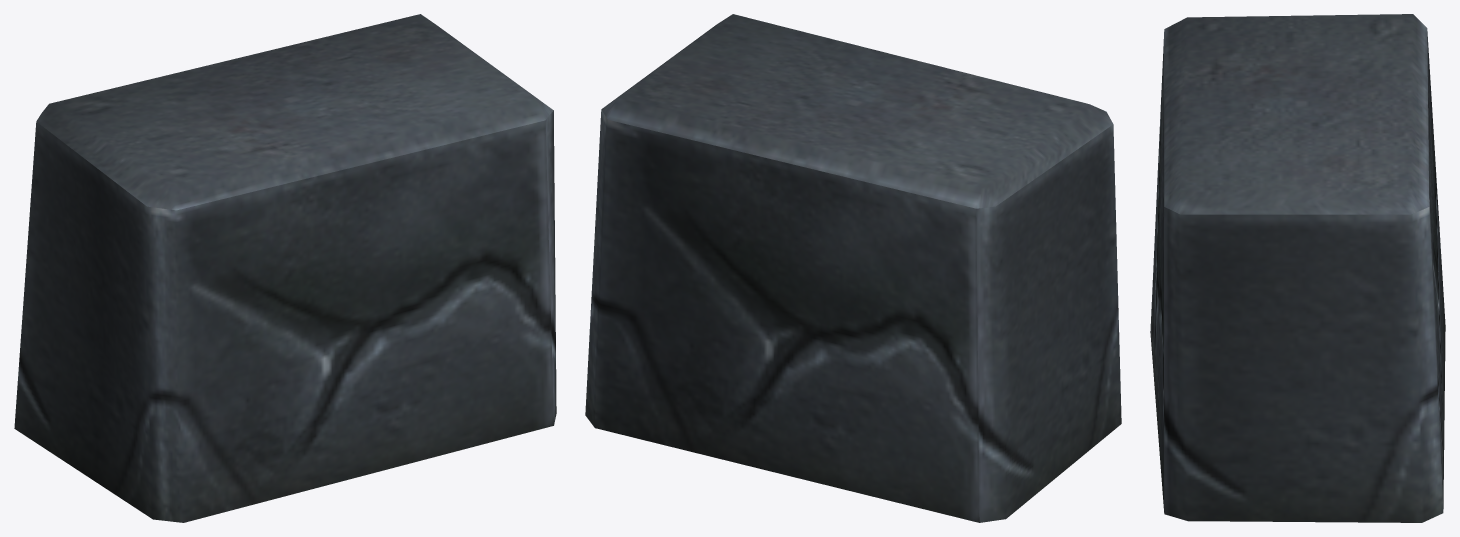
File: B_shikuai002.fbx
3 renders of one model, left to right at view 1: azimuth 30°, elevation 25°; view 2: azimuth 150°, elevation 25°; view 3: azimuth 270°, elevation 25°, orthographic.
Parts seen in each view (by area): view 1: B_shikuai002; view 2: B_shikuai002; view 3: B_shikuai002.
Part boxes in pixels (x1,y1,x2,y2): B_shikuai002: (14, 14, 556, 522); B_shikuai002: (585, 14, 1121, 522); B_shikuai002: (1150, 14, 1445, 522).
Size of the model in its own units: 80.99 by 58.53 by 49.25.
